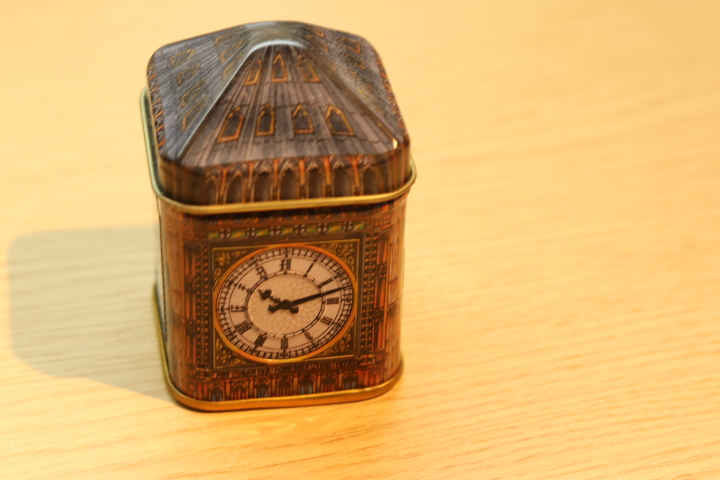Big Ben: (124, 4, 440, 428)
